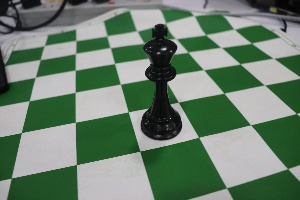black_king: (135, 14, 187, 144)
